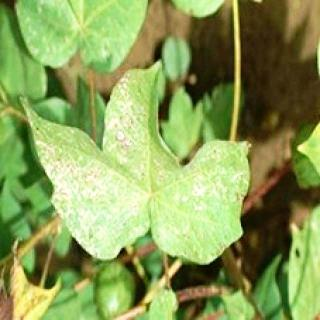grey mildew: (26, 67, 250, 273)
